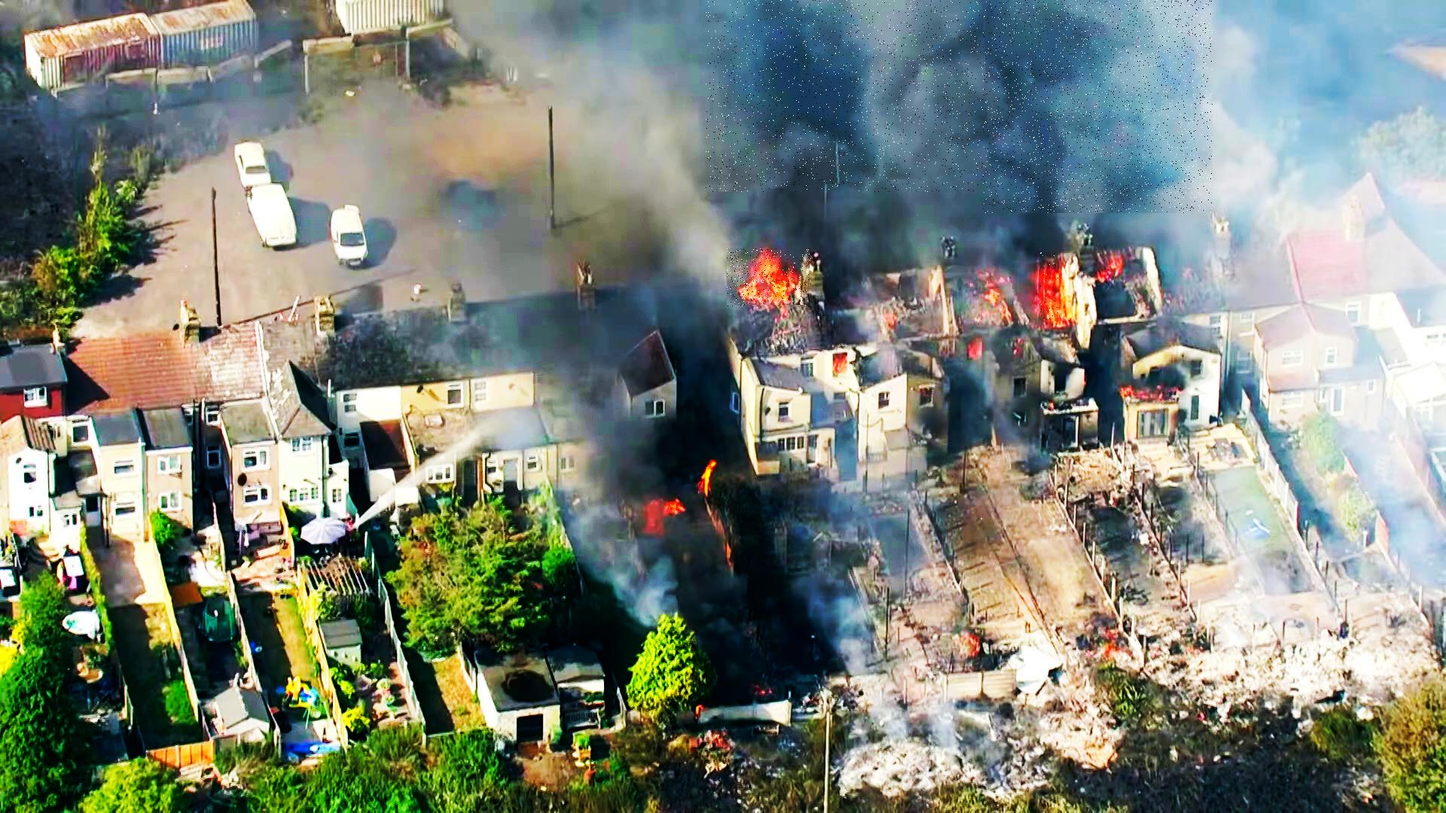fire: (727, 249, 812, 307), (1039, 252, 1058, 321)
smoke: (706, 0, 994, 192), (983, 0, 1213, 213)
